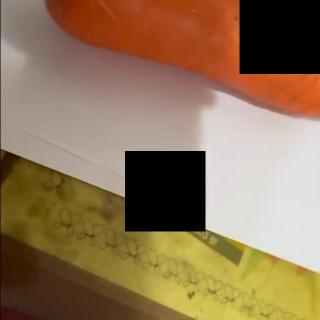carrot: (1, 0, 320, 118)
